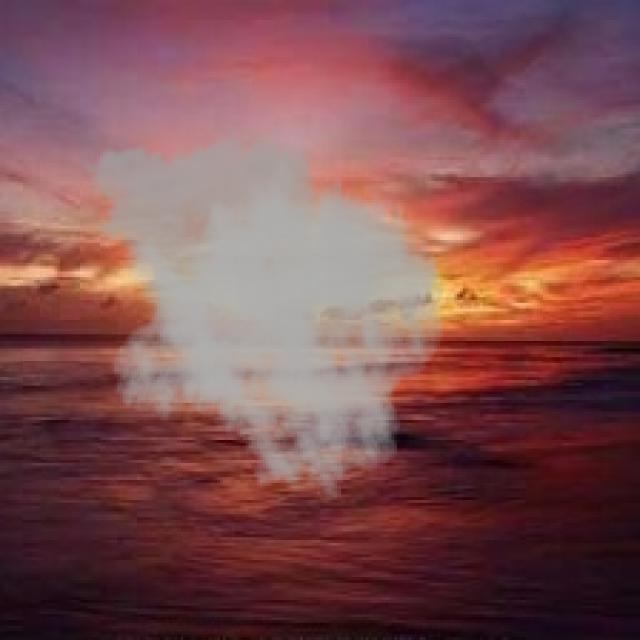smoke: (74, 123, 446, 503)
